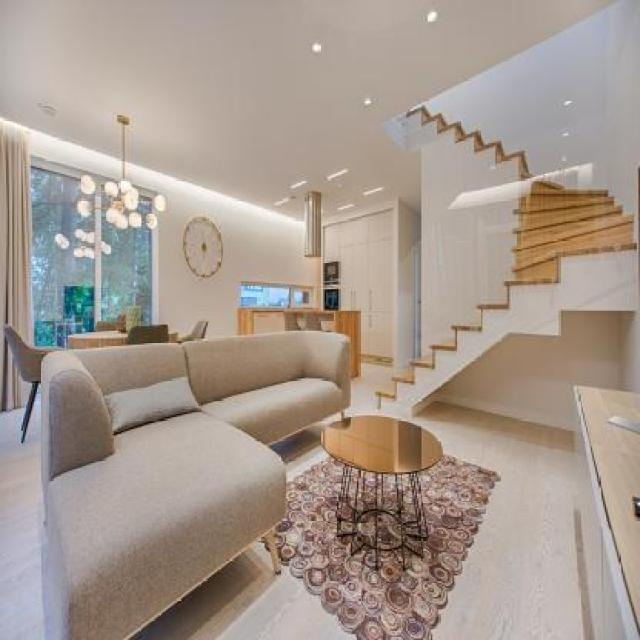floor: (135, 401, 583, 640), (0, 430, 50, 640)
